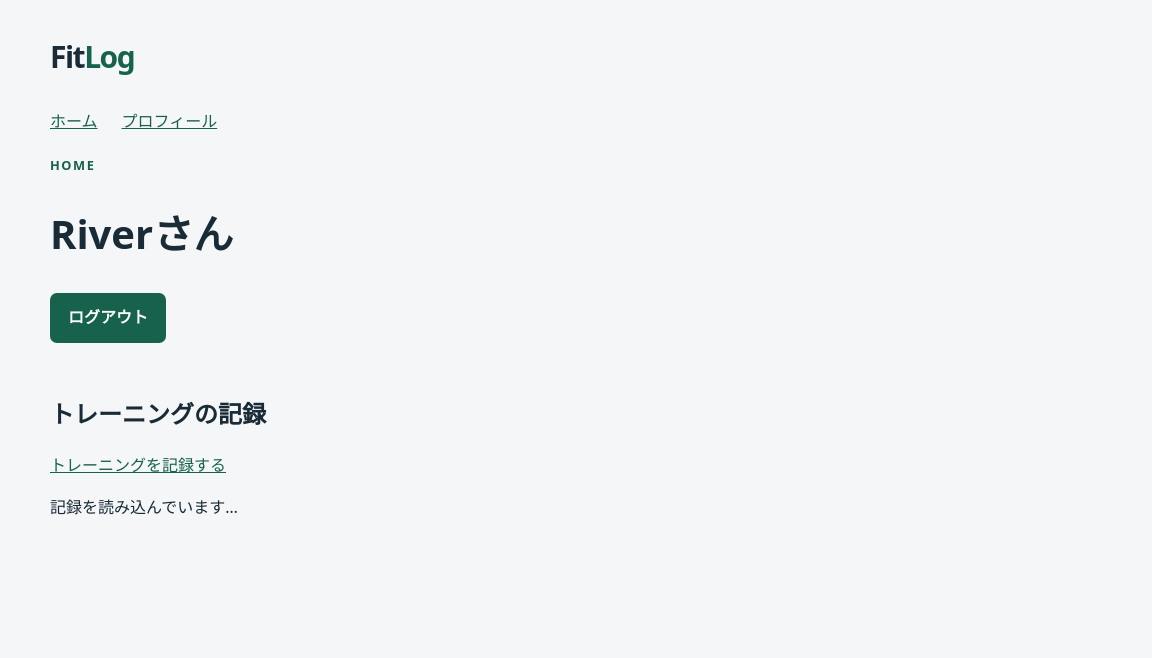
Test: keeps the draft after HTTP 400 and never resends the PUT
Click the link "プロフィール". click: (169, 122)
box: [122,109,217,135]
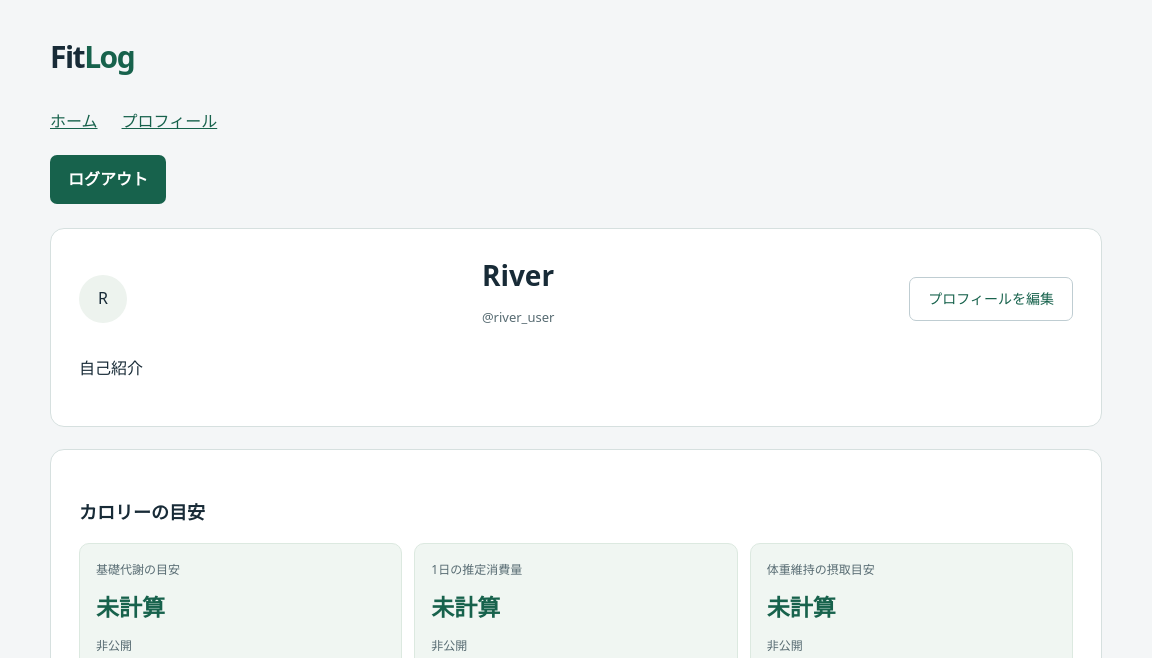
Click the link "プロフィールを編集". click: (991, 299)
box: [909,277,1073,321]
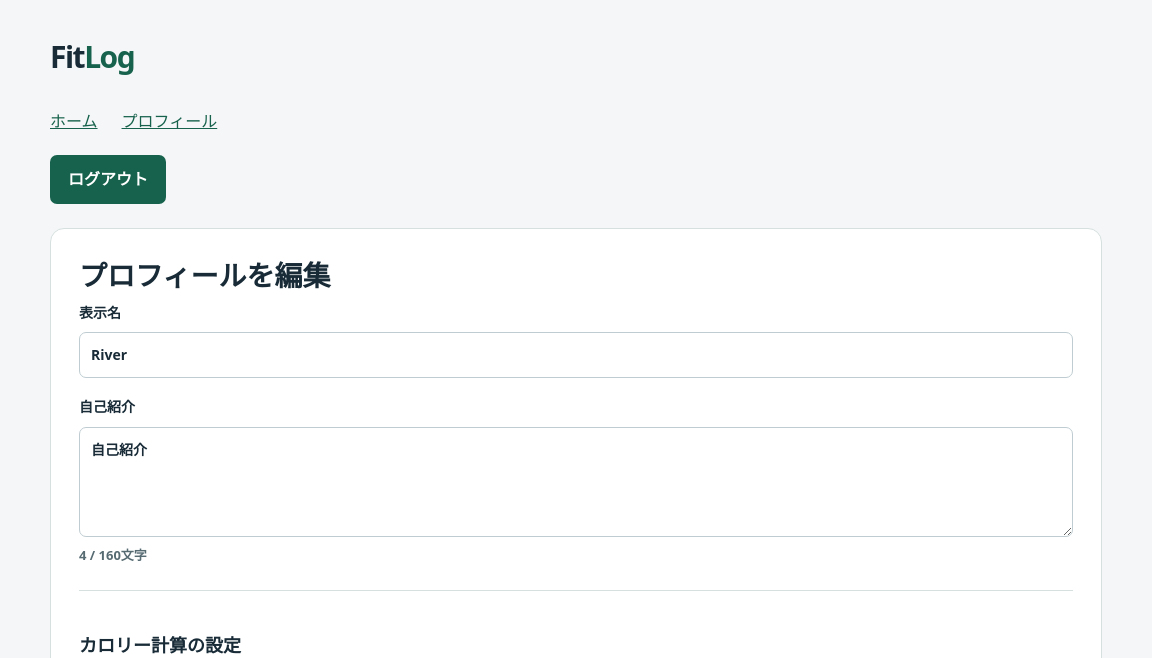
Replace the text in the text box labelled "自己紹介" with "下書き秘密marker". click: (576, 482)
box: [79,427,1073,537]
(page scrolled)
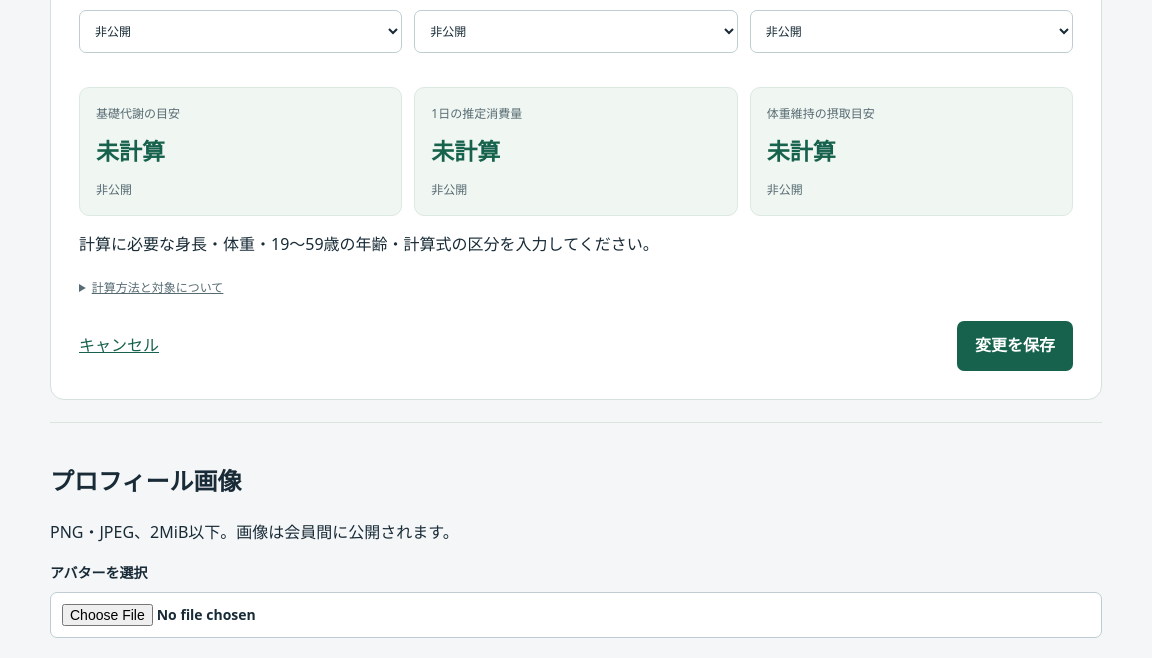
Click the button "変更を保存". click: (1015, 346)
box: [957,321,1073,371]
(page scrolled)
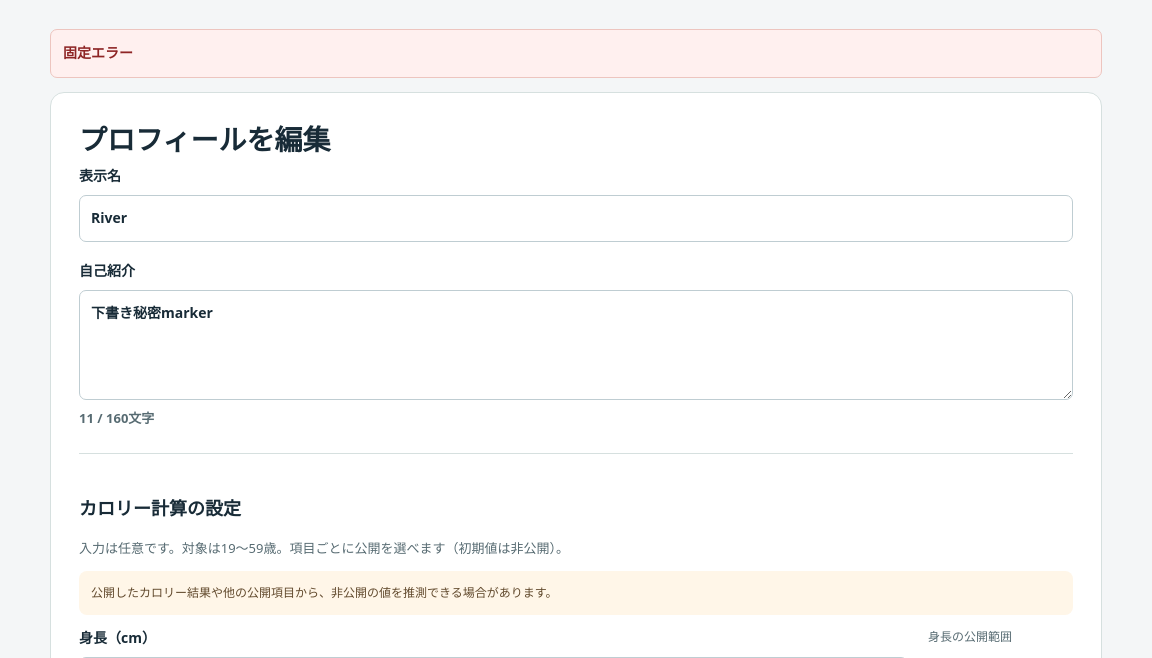
expect the message "固定エラー" is shown: met, box [50,29,1102,78]
